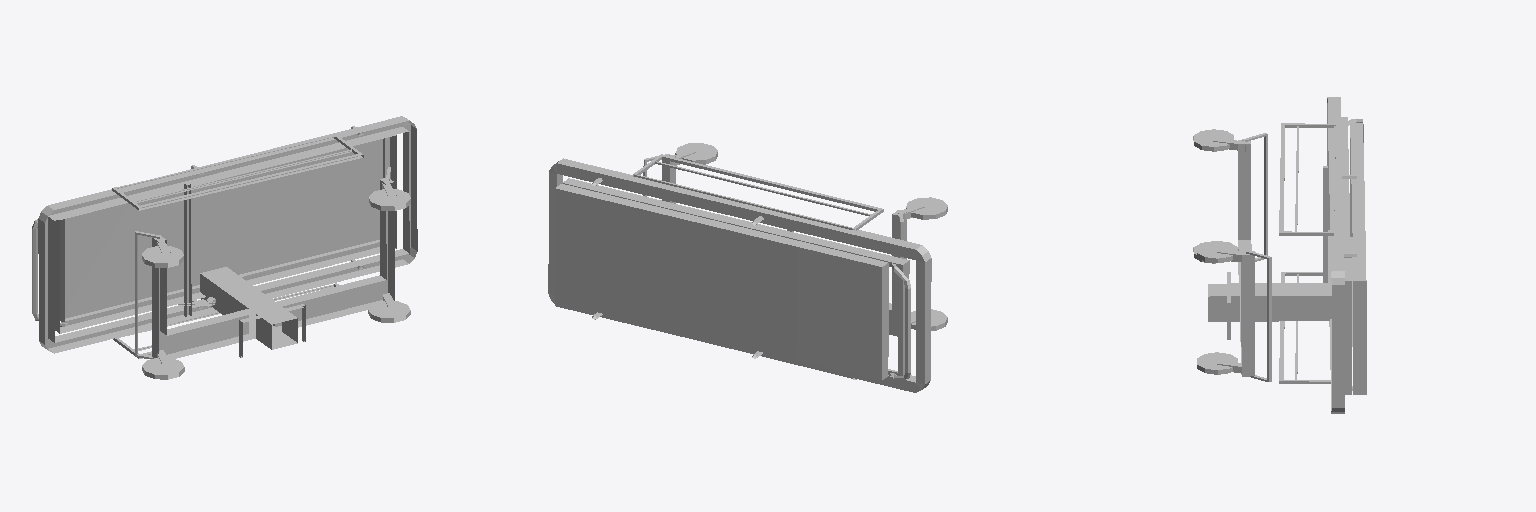
File: ASY_Trolley.obj
The picture shows the model from 3 angles: view 1: azimuth 30°, elevation 25°; view 2: azimuth 150°, elevation 25°; view 3: azimuth 270°, elevation 25°; orthographic projection.
Parts seen in each view (by area): view 1: CJ_TROLLY_noshadow_L0_object; view 2: CJ_TROLLY_noshadow_L0_object; view 3: CJ_TROLLY_noshadow_L0_object.
Boxes of the visible parts, <box> form: CJ_TROLLY_noshadow_L0_object: <box>32,116,417,379</box>; CJ_TROLLY_noshadow_L0_object: <box>548,143,947,392</box>; CJ_TROLLY_noshadow_L0_object: <box>1193,97,1366,413</box>.
Size of the model in its own units: 2.54 by 0.9823 by 1.01.